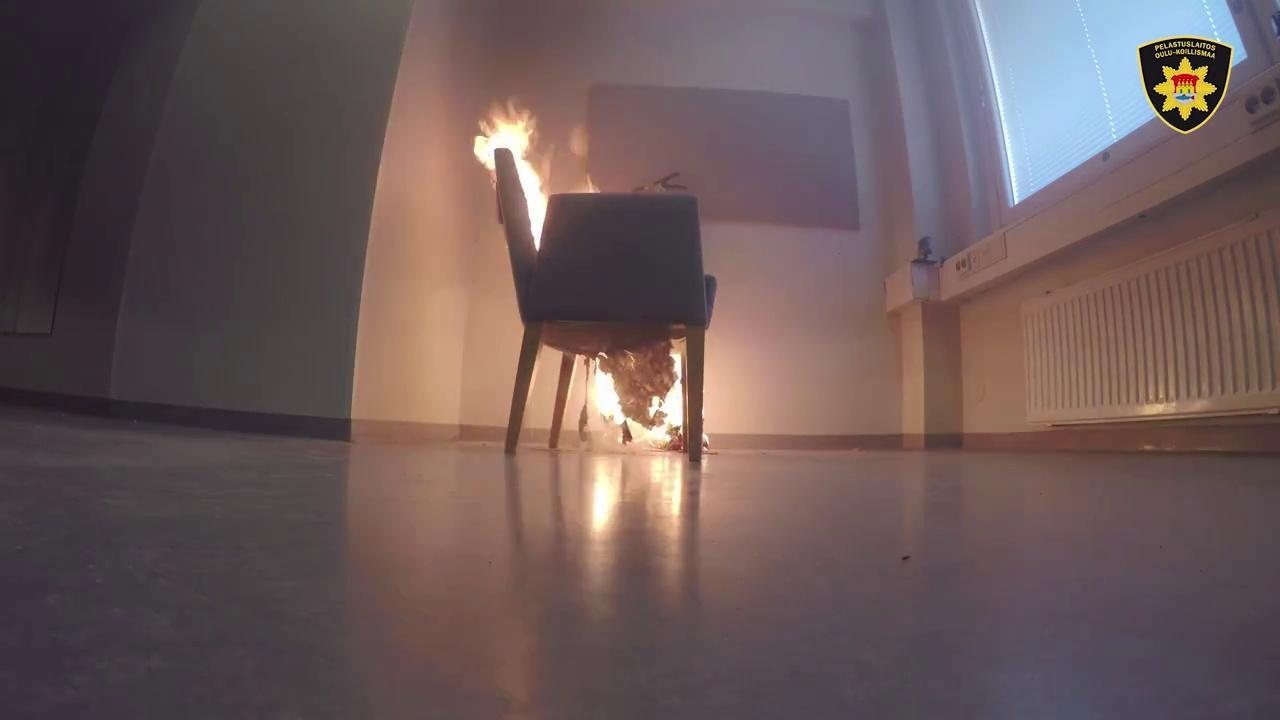fire: (462, 90, 602, 248), (570, 335, 710, 451)
